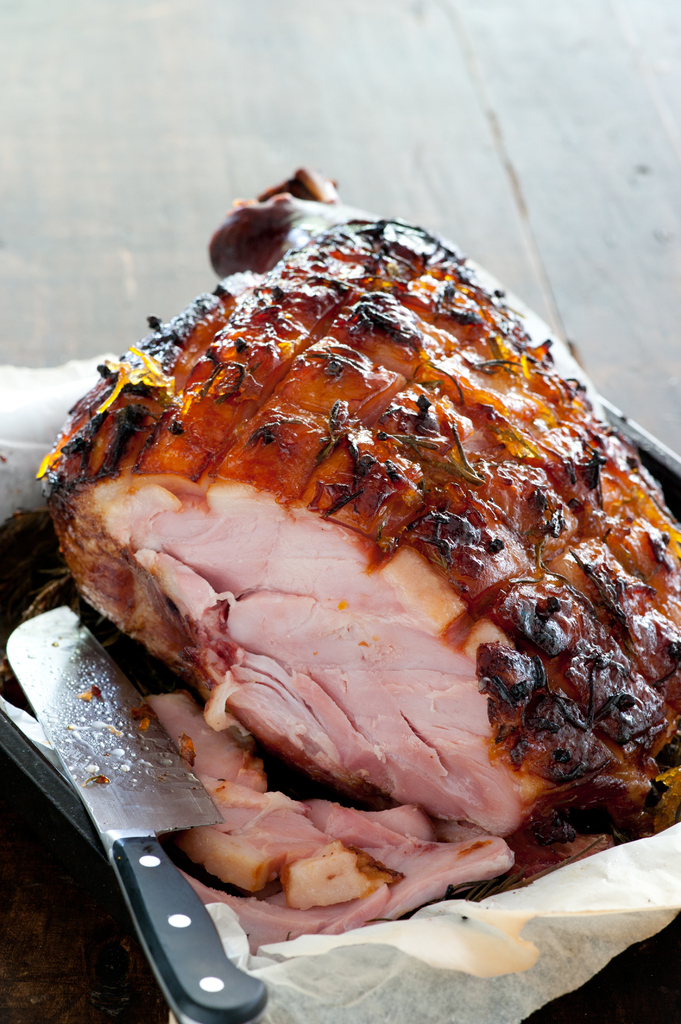kitchen knife: (3, 602, 274, 1023)
